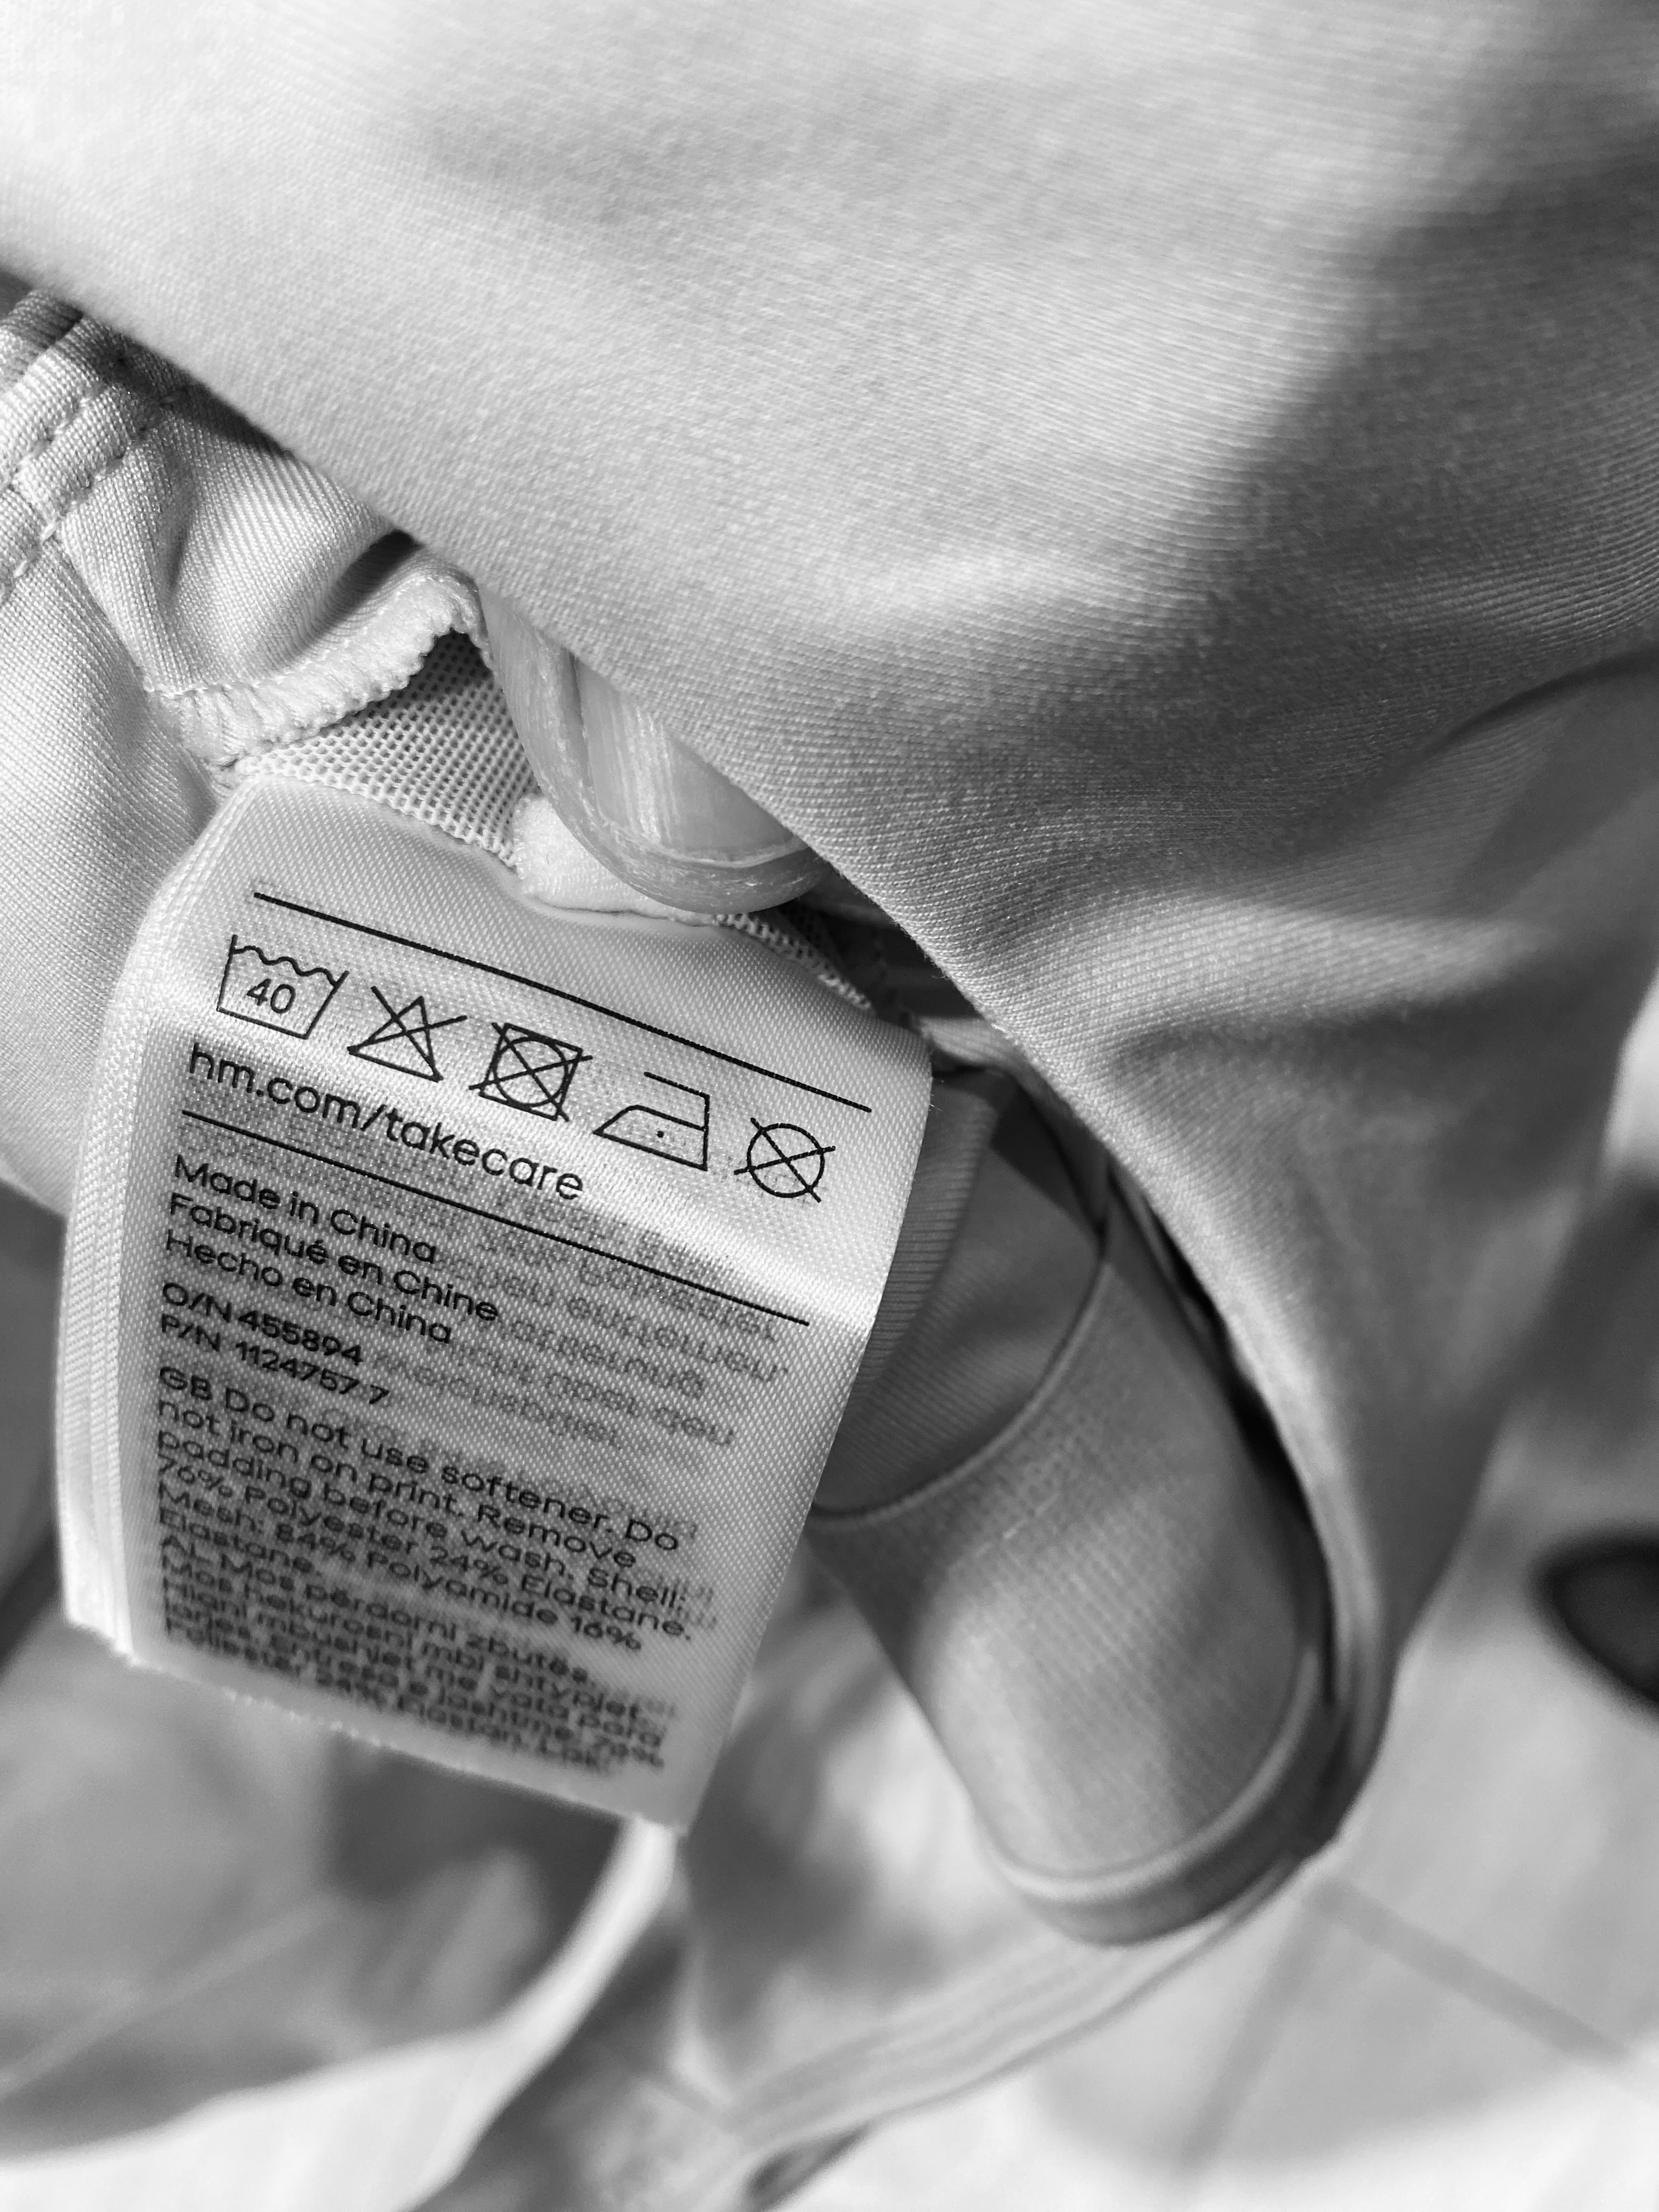icon: (207, 928, 352, 1047), (471, 1014, 599, 1136), (587, 1066, 721, 1181), (349, 981, 471, 1090), (732, 1108, 843, 1212)
